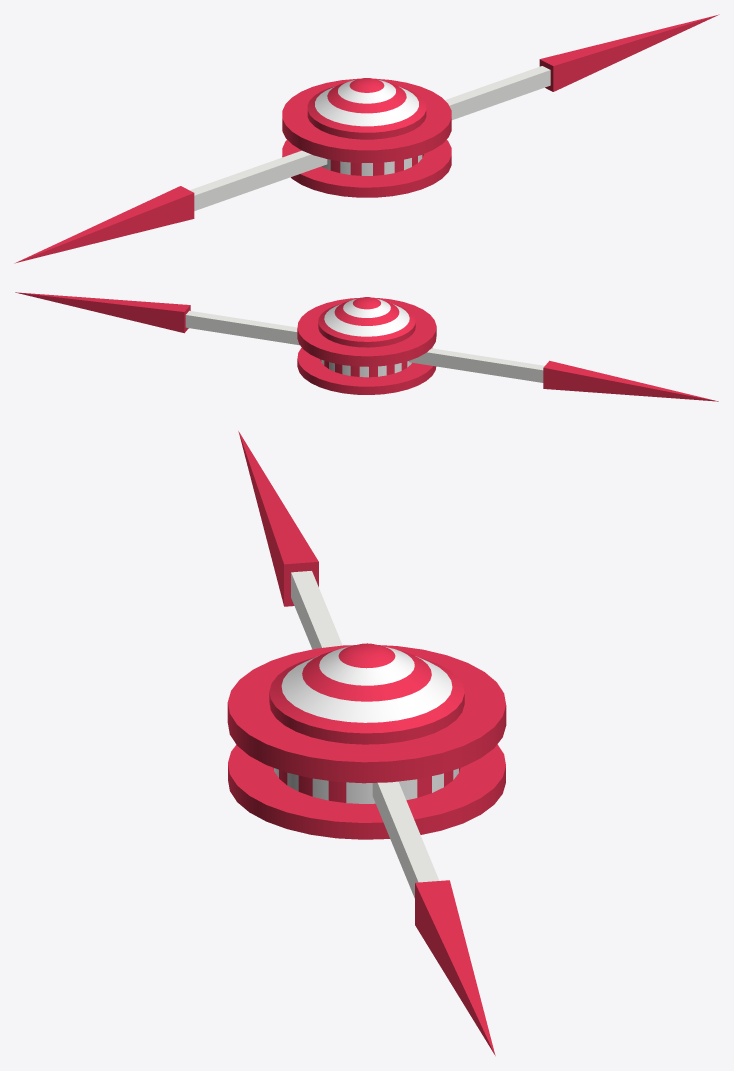
Rendered from ChoppaObstacle.fbx.
3 views of the same model, one above another, from view 1: azimuth 30°, elevation 25°; view 2: azimuth 150°, elevation 25°; view 3: azimuth 270°, elevation 25° (orthographic). The views are drawn at different scales.
Parts seen in each view (by area): view 1: Cylinder.003, Cylinder.002; view 2: Cylinder.003, Cylinder.002; view 3: Cylinder.003, Cylinder.002.
Part boxes in pixels (bbox=[...]): Cylinder.003: bbox=[282, 78, 451, 197]; Cylinder.002: bbox=[14, 14, 719, 263]; Cylinder.003: bbox=[297, 297, 436, 394]; Cylinder.002: bbox=[15, 292, 718, 401]; Cylinder.003: bbox=[227, 643, 506, 839]; Cylinder.002: bbox=[238, 431, 495, 1055].
Bounding box in the file's own units: 230 × 22.35 × 43.13.
2 materials, 2 textured.
